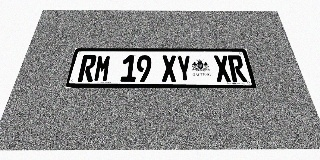1: (120, 55, 137, 82)
9: (136, 55, 152, 82)
M: (93, 55, 112, 82)
R: (77, 55, 97, 82), (227, 55, 247, 82)
X: (213, 55, 232, 82), (162, 55, 177, 82)
Y: (176, 55, 192, 82)
